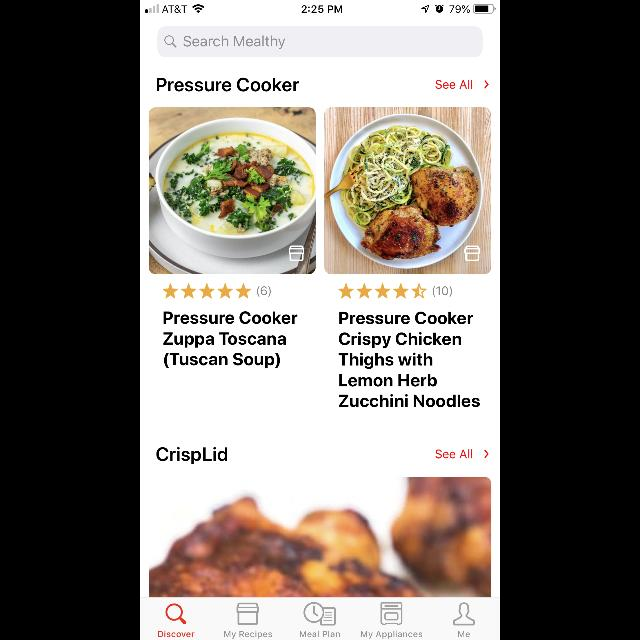icon: (339, 284, 427, 298), (163, 284, 251, 298), (304, 602, 336, 626), (380, 602, 402, 626), (453, 602, 475, 626), (237, 603, 259, 625), (166, 604, 187, 624), (289, 245, 305, 261), (464, 246, 480, 262), (165, 36, 177, 48), (485, 80, 489, 90), (485, 450, 489, 458)
image: (149, 477, 491, 597), (324, 108, 492, 274), (148, 108, 316, 274)
input: (158, 27, 482, 58)
text: (338, 312, 479, 408), (164, 312, 298, 368), (157, 78, 299, 92), (183, 35, 285, 49), (156, 448, 228, 464), (362, 631, 422, 639), (224, 630, 272, 638), (436, 80, 472, 90), (436, 449, 472, 458), (158, 630, 194, 638), (432, 286, 452, 298), (300, 631, 340, 637), (257, 286, 271, 298), (458, 631, 470, 637)
uppertaskbar: (140, 0, 500, 14)
